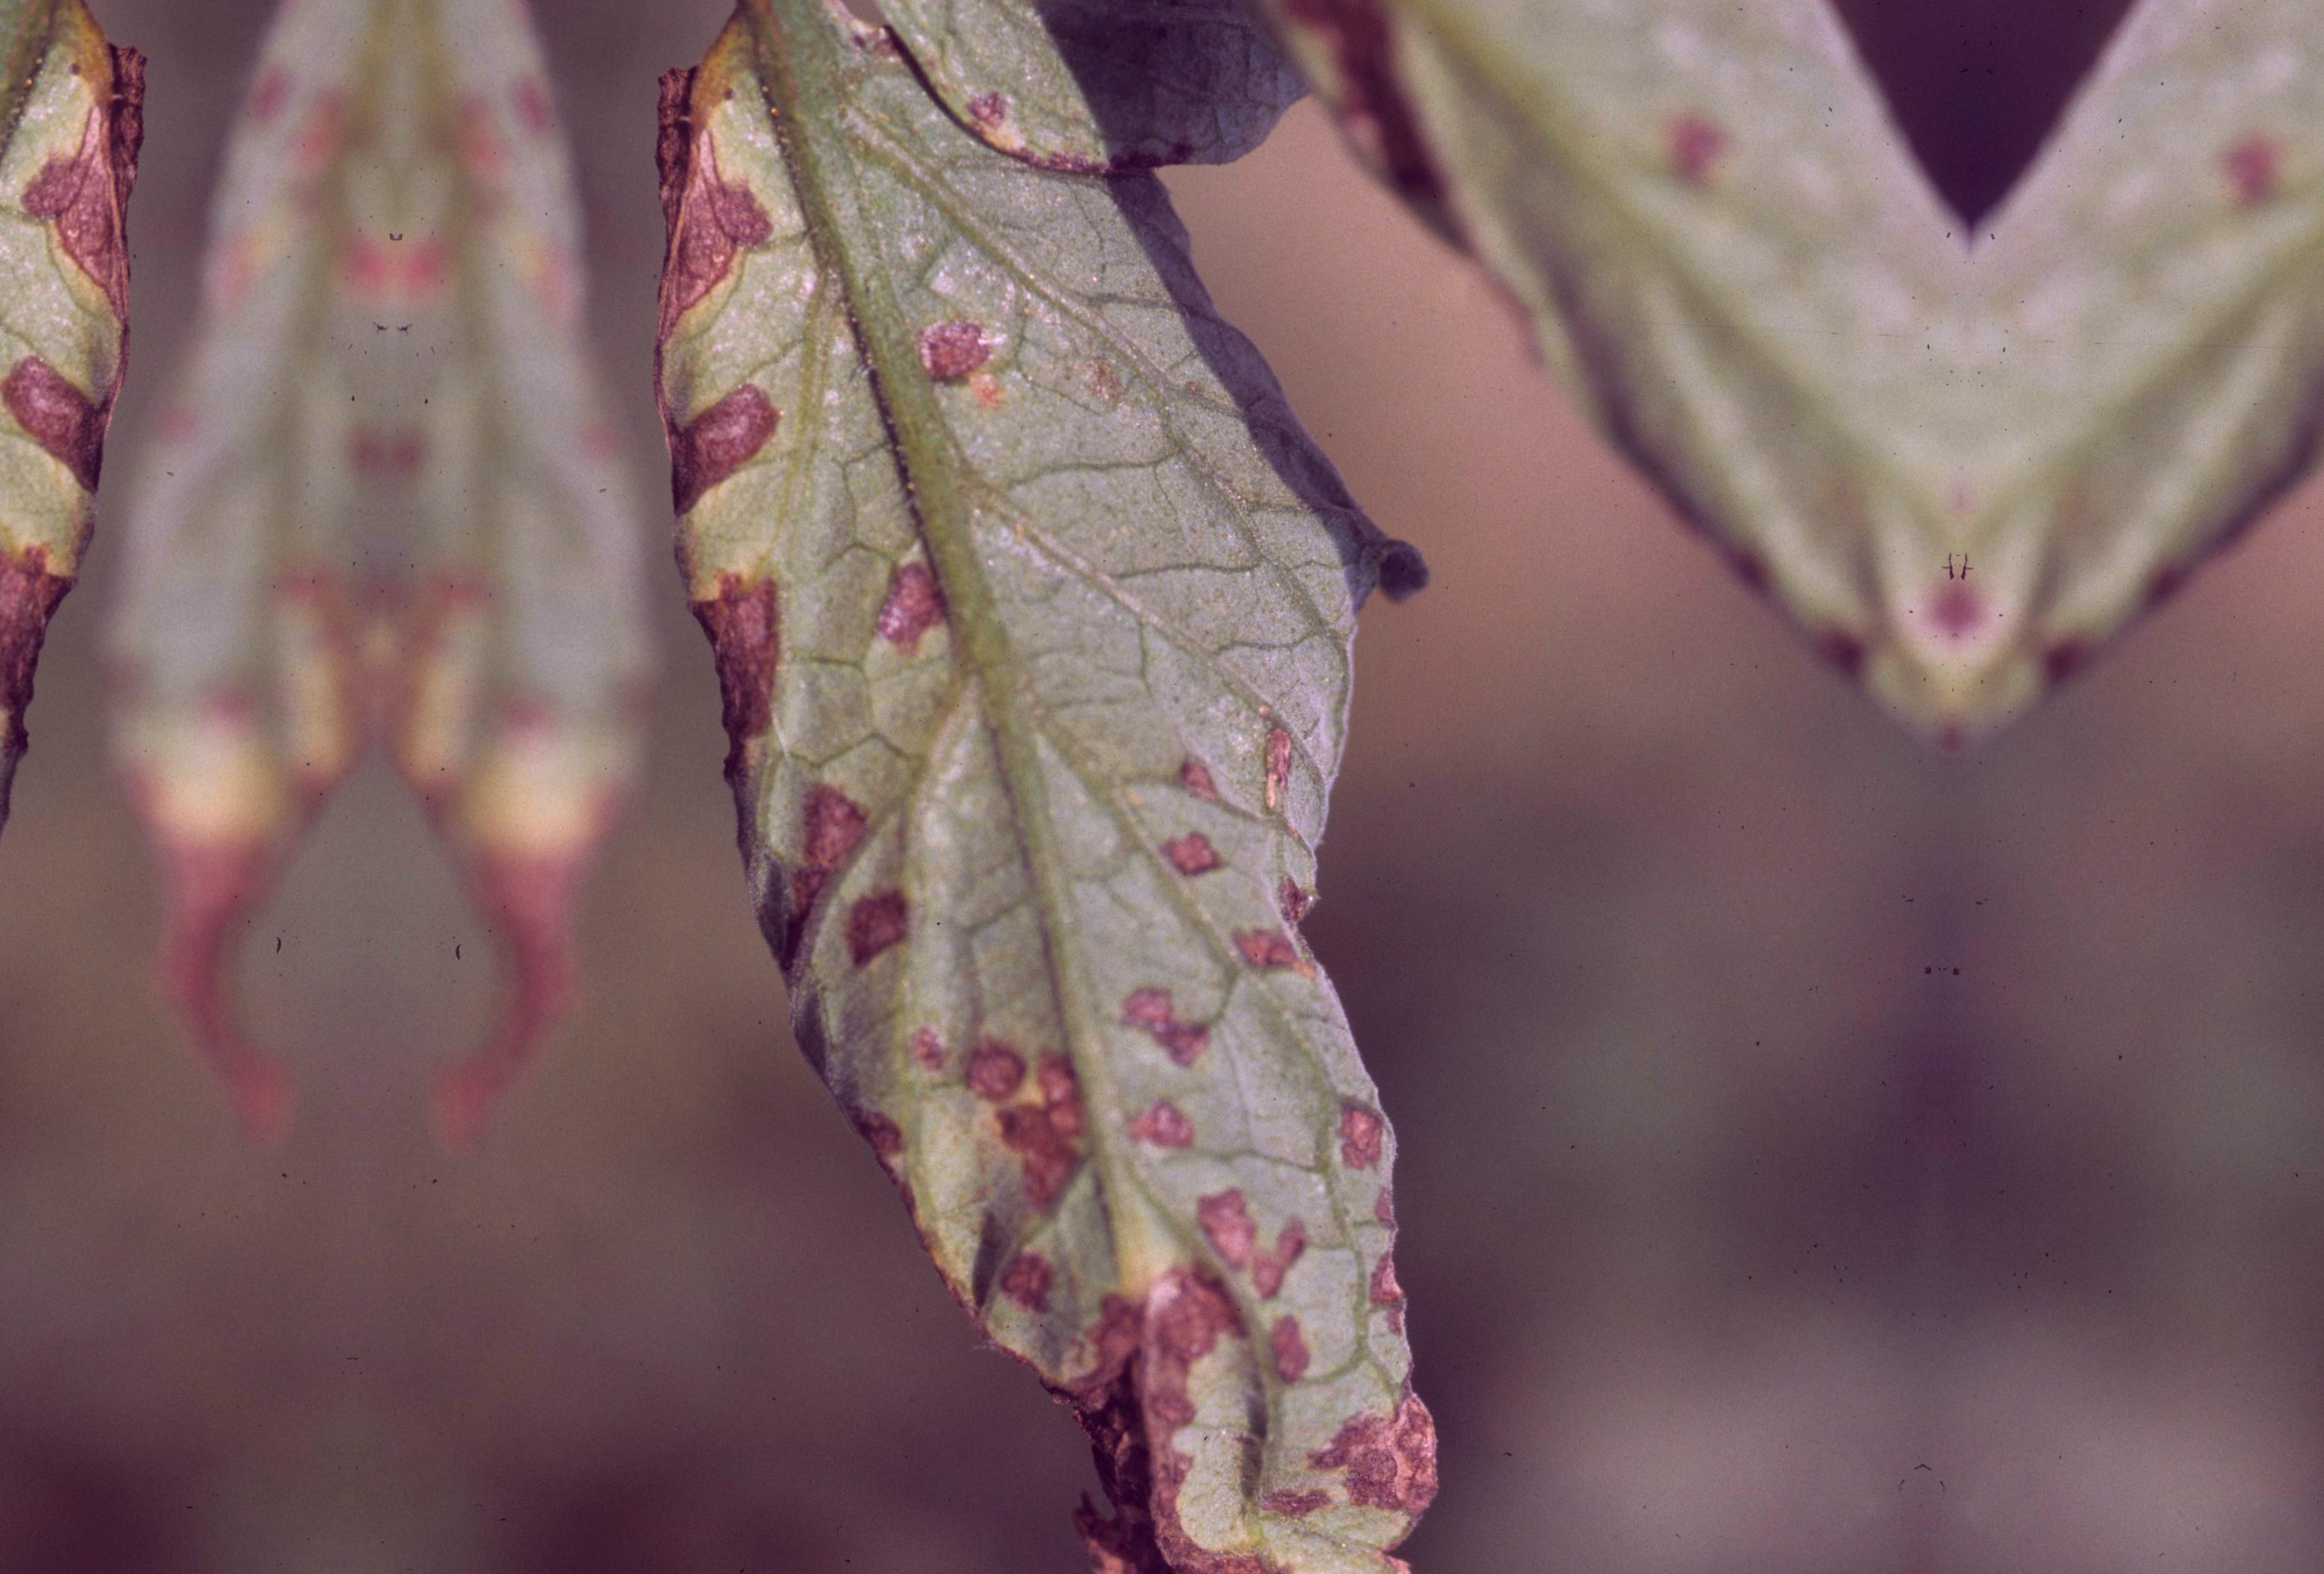Tomato leaf bacterial spot: (509, 0, 1535, 1574)
